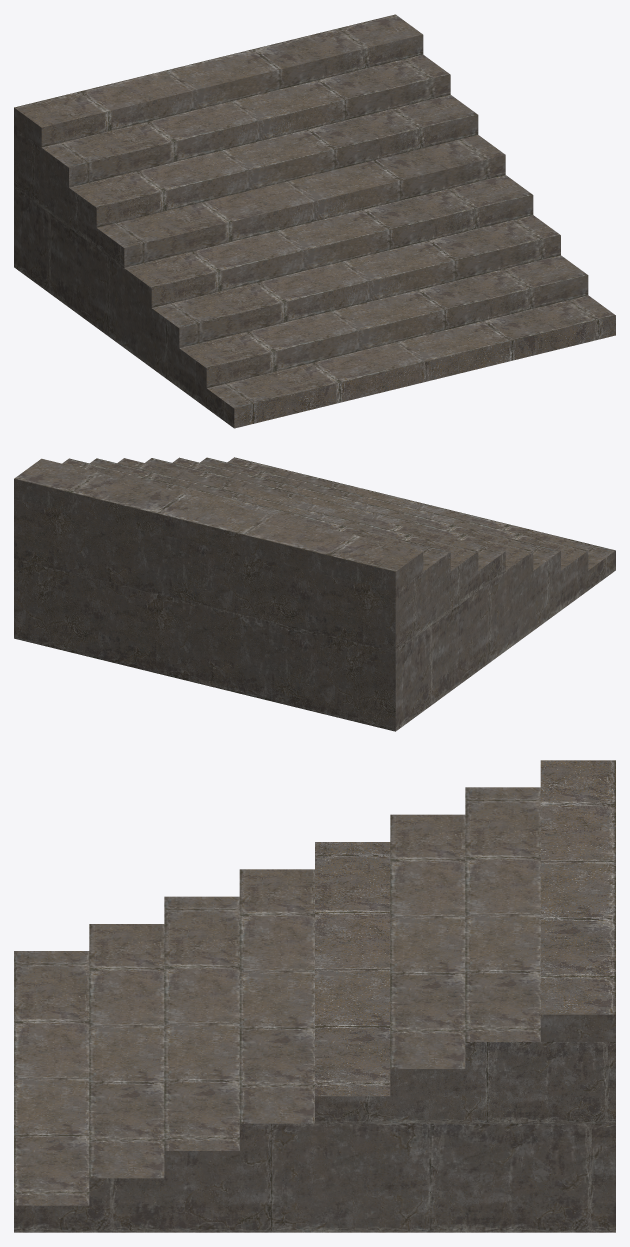
The model's file is stair1.fbx.
3 views of the same model, one above another, from view 1: azimuth 30°, elevation 25°; view 2: azimuth 150°, elevation 25°; view 3: azimuth 270°, elevation 25° (orthographic). The views are drawn at different scales.
Visible parts, largest first — view 1: Trim_Stairs_simple_4x4x2; view 2: Trim_Stairs_simple_4x4x2; view 3: Trim_Stairs_simple_4x4x2.
Part boxes in pixels (bbox=[...]): Trim_Stairs_simple_4x4x2: bbox=[14, 14, 615, 428]; Trim_Stairs_simple_4x4x2: bbox=[14, 457, 615, 731]; Trim_Stairs_simple_4x4x2: bbox=[14, 760, 615, 1232].
Bounding box in the file's own units: 400 × 160 × 400.
